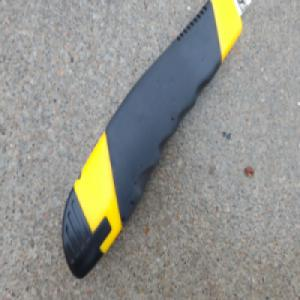Cutter: (65, 1, 246, 274)
